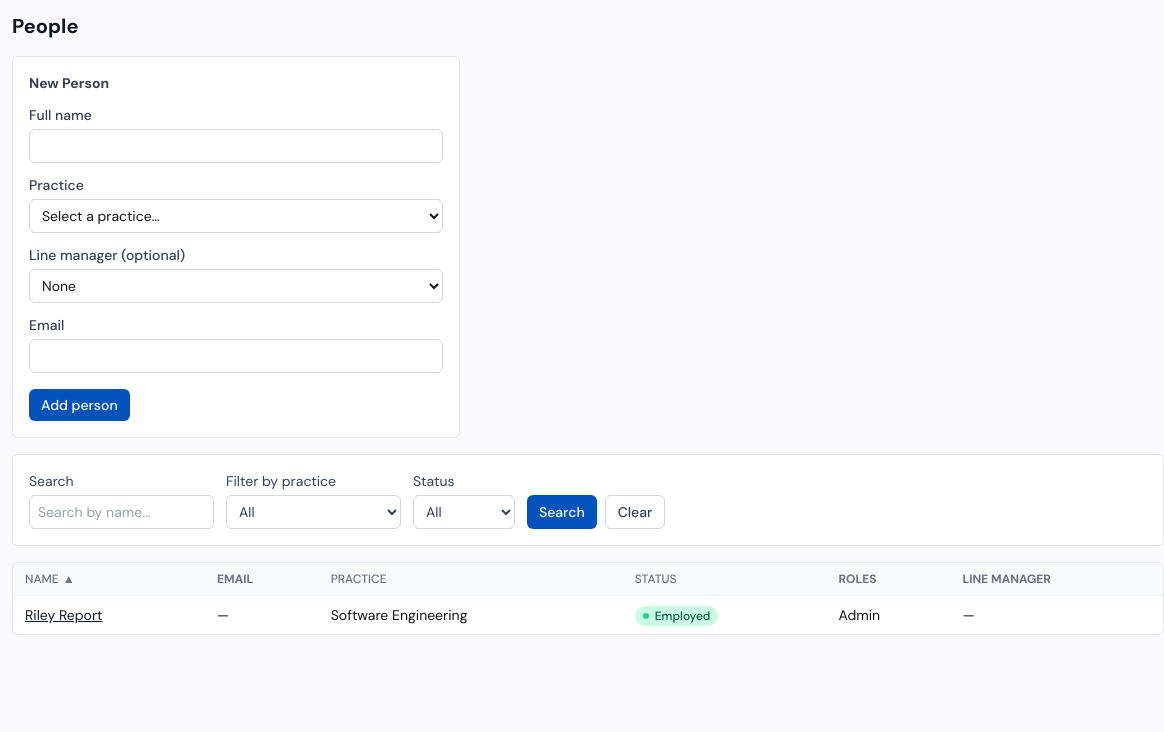
PeoplePage › requires a name and practice before submitting
This screenshot has width=1164, height=732.
Expected: the link "Riley Report" is shown, [25,606,103,624]
Step 1. Click the button "Add person" → coordinates (79, 405), box [29,389,130,421]
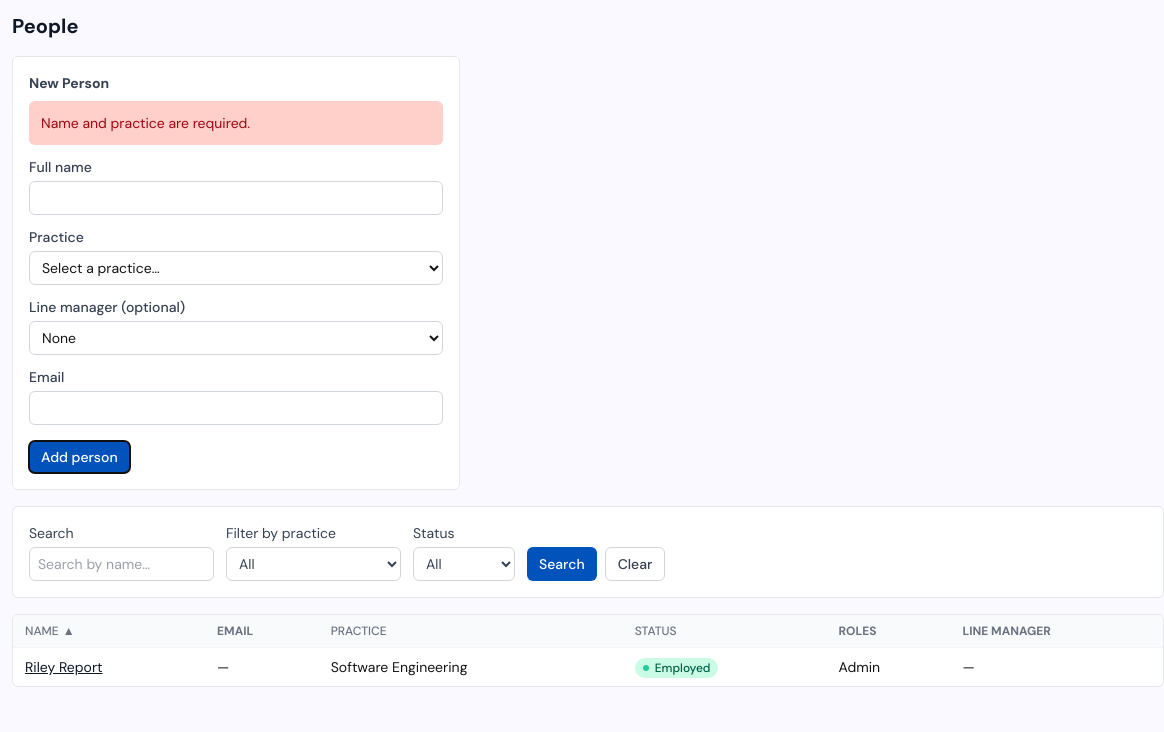
Now the message shows "Name and practice are required", box [41,114,250,132]
